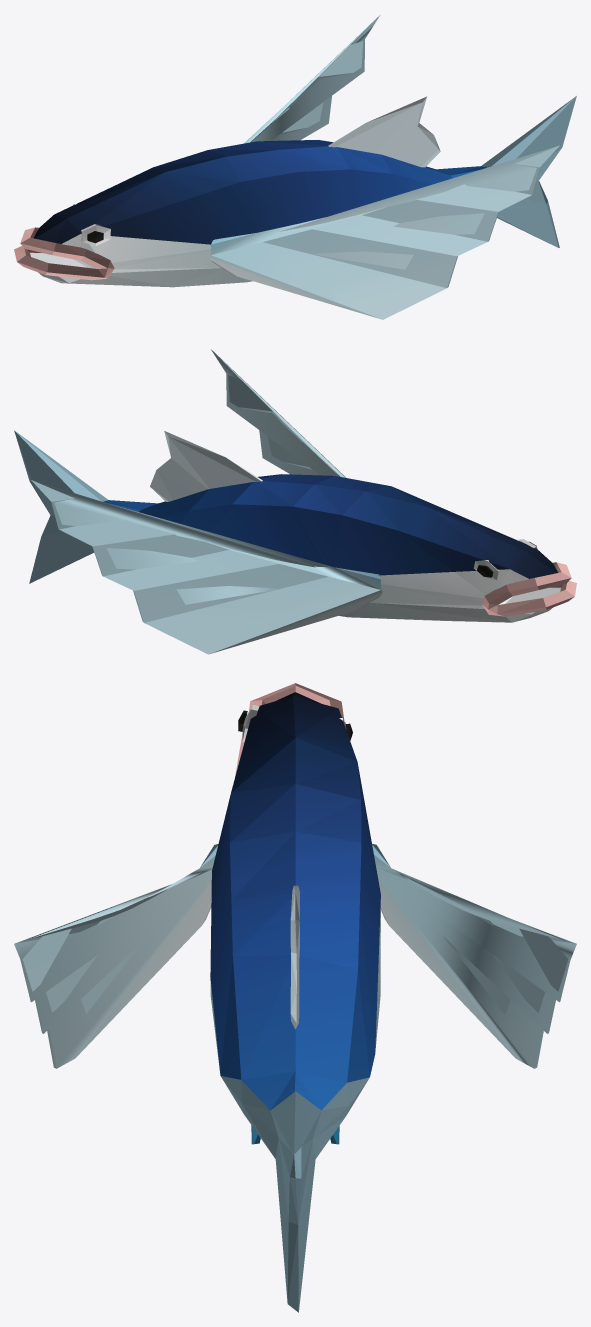
File: Fish_nalchi.fbx
3 views of the same model, one above another, from view 1: azimuth 30°, elevation 25°; view 2: azimuth 150°, elevation 25°; view 3: azimuth 270°, elevation 25° (orthographic). The views are drawn at different scales.
Parts seen in each view (by area): view 1: Fish_nalchi; view 2: Fish_nalchi; view 3: Fish_nalchi.
Part boxes in pixels (left/top/right/bottom): Fish_nalchi: left=14, top=15, right=576, bottom=319; Fish_nalchi: left=14, top=349, right=576, bottom=654; Fish_nalchi: left=14, top=683, right=576, bottom=1312.
Size of the model in its own units: 35.37 by 19.6 by 11.52.
1 material, 1 textured.
